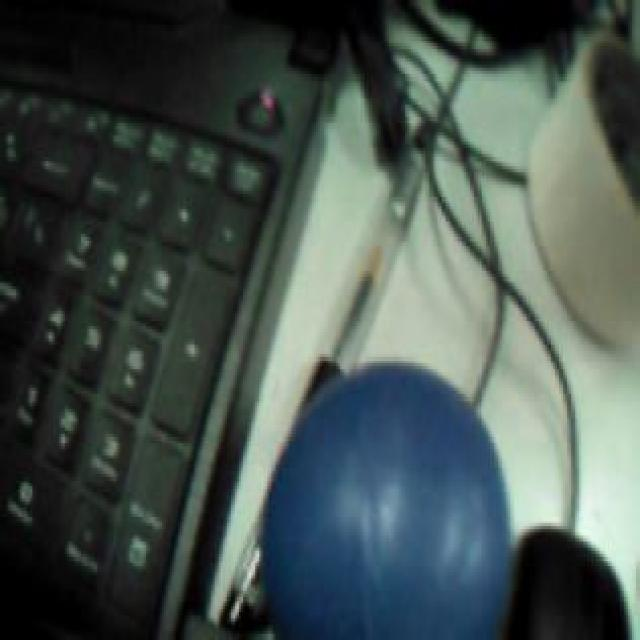BallPurple: (263, 360, 513, 640)
